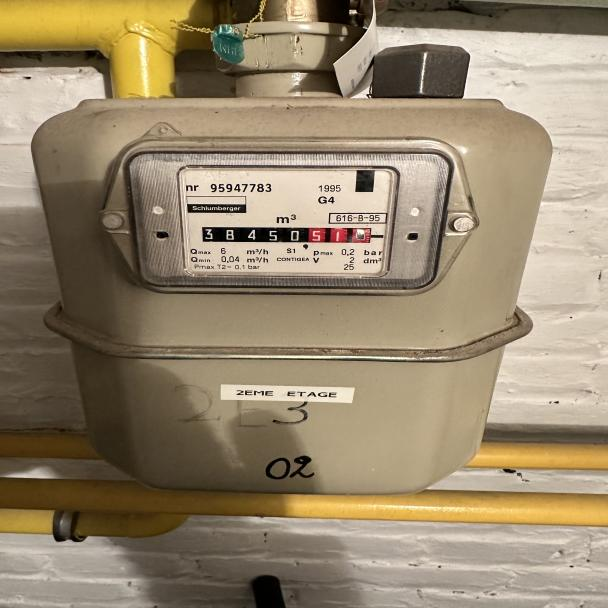0: (348, 228, 375, 245), (286, 227, 308, 244)
1: (330, 228, 354, 244)
3: (202, 225, 218, 244)
4: (242, 226, 264, 243)
5: (306, 227, 330, 244), (265, 228, 286, 243)
8: (222, 227, 241, 244)
cm: (307, 226, 380, 248)
counter: (197, 225, 310, 246)
